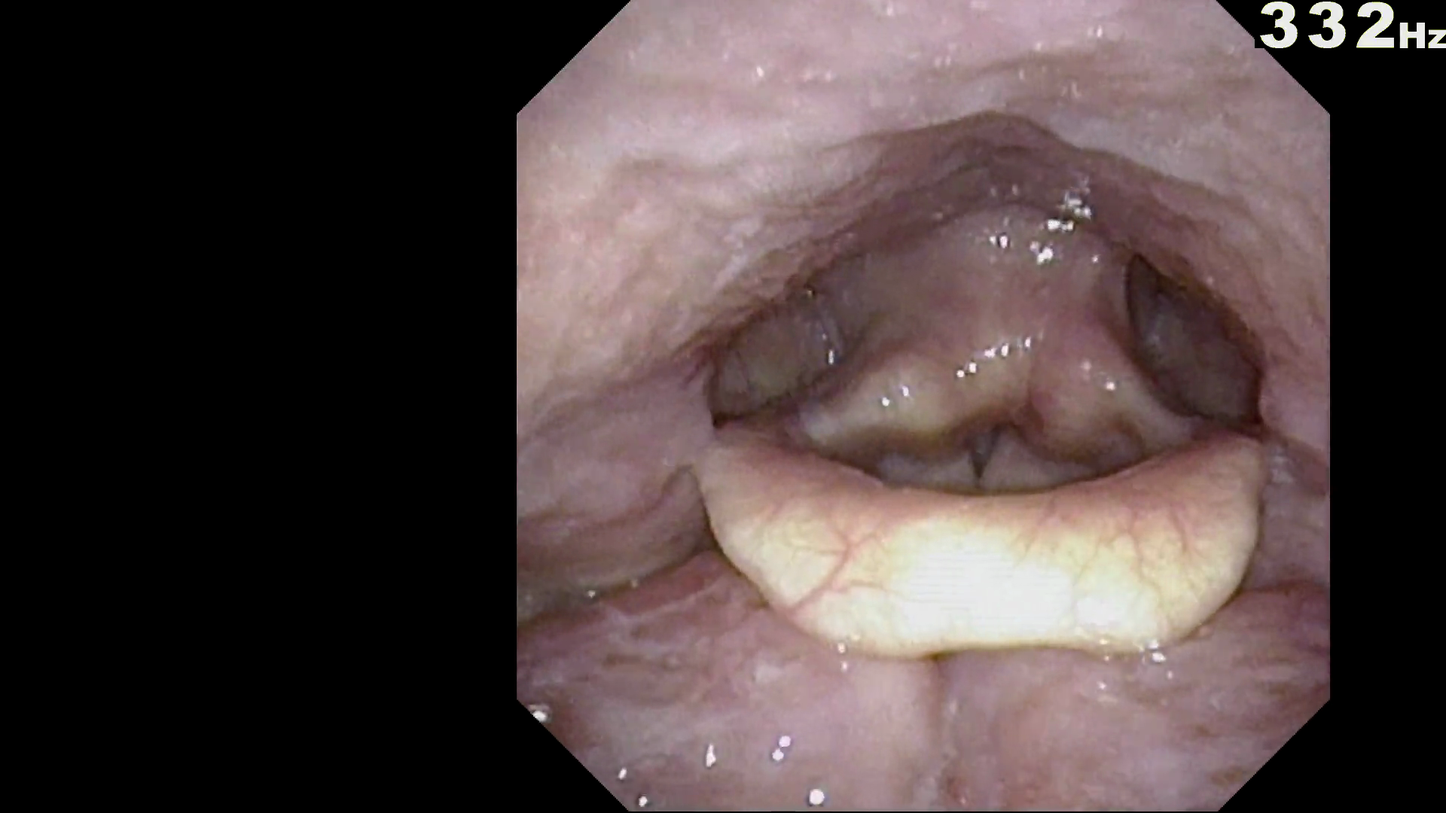epiglottis: (690, 406, 1291, 662)
trachea: (914, 357, 1081, 546)
